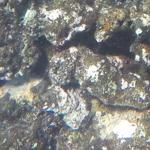dead: (6, 4, 144, 146)
